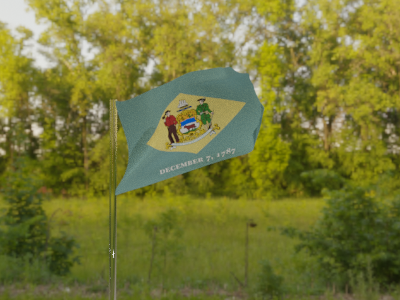Delaware flag: (113, 66, 264, 196)
